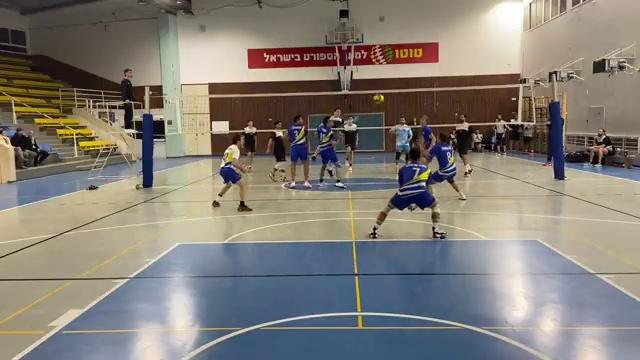ball: (370, 93, 389, 107)
